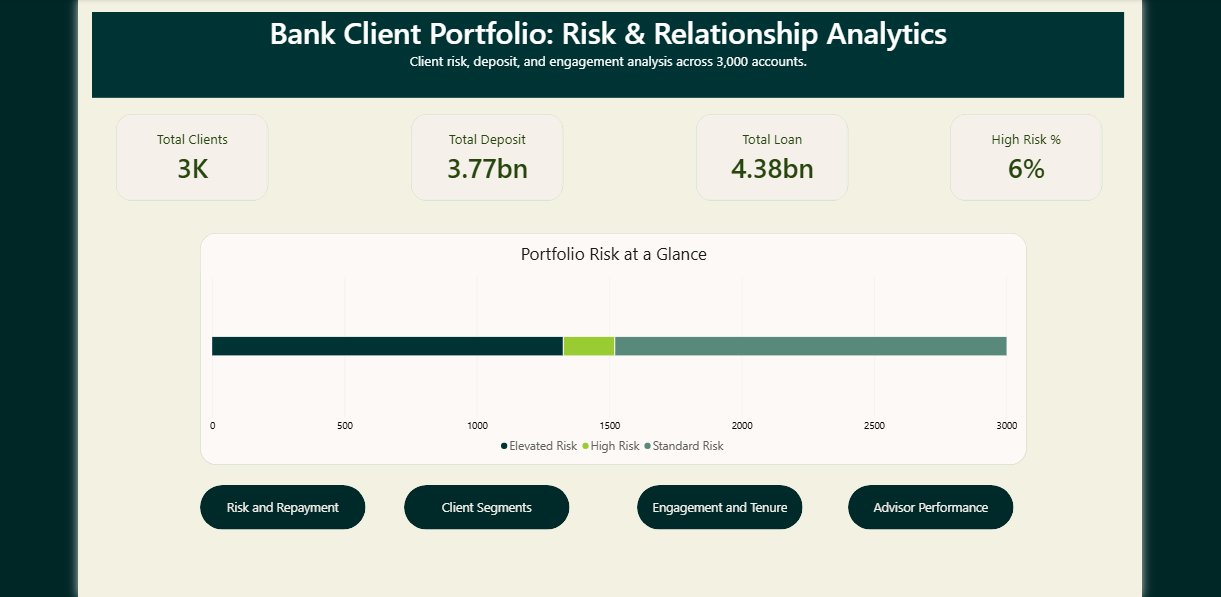

This screenshot's page, from the dashboard's own definition file:
{"tool":"powerbi","page":{"name":"Overview","canvas":[1920,1080],"ordinal":0},"visuals":[{"type":"textbox","box":[24.8,22.7,1864.3,154.8],"z":0},{"type":"cardVisual","fields":{"Data":["Key Measures.Total Clients"]},"box":[68.1,208.5,274.6,156.9],"z":1000},{"type":"cardVisual","fields":{"Data":["Key Measures.Total Deposit"]},"box":[600.8,208.5,274.6,156.9],"z":2000},{"type":"cardVisual","fields":{"Data":["Key Measures.Total Loan"]},"box":[1116.9,208.5,274.6,156.9],"z":3000},{"type":"cardVisual","fields":{"Data":["Key Measures.High Risk %"]},"box":[1575.2,208.5,274.6,156.9],"z":4000},{"type":"barChart","title":"Portfolio Risk at a Glance","fields":{"Y":["Key Measures.Total Clients"],"Series":["Banking.Risk Segment"]},"box":[220.9,423.2,1492.6,419.1],"z":5000},{"type":"actionButton","box":[220.9,877.4,299,80.5],"z":6000},{"type":"actionButton","box":[588.4,877.4,299,80.5],"z":7000},{"type":"actionButton","box":[1009.5,877.4,299.4,80.5],"z":8000},{"type":"actionButton","box":[1391.5,877.4,299,80.5],"z":9000}]}

Visuals, with their boxes on the page's 1920x1080 design canvas (x1, y1, x2, y2). These are canvas units, not pixel positions in the 1221x597 screenshot, which may show the page scaled, cropped or inside an application window:
textbox: pyautogui.locateOnScreen(25, 23, 1889, 178)
cardVisual - Key Measures.Total Clients: pyautogui.locateOnScreen(68, 208, 343, 365)
cardVisual - Key Measures.Total Deposit: pyautogui.locateOnScreen(601, 208, 875, 365)
cardVisual - Key Measures.Total Loan: pyautogui.locateOnScreen(1117, 208, 1392, 365)
cardVisual - Key Measures.High Risk %: pyautogui.locateOnScreen(1575, 208, 1850, 365)
"Portfolio Risk at a Glance" barChart: pyautogui.locateOnScreen(221, 423, 1714, 842)
actionButton: pyautogui.locateOnScreen(221, 877, 520, 958)
actionButton: pyautogui.locateOnScreen(588, 877, 887, 958)
actionButton: pyautogui.locateOnScreen(1010, 877, 1309, 958)
actionButton: pyautogui.locateOnScreen(1392, 877, 1690, 958)
